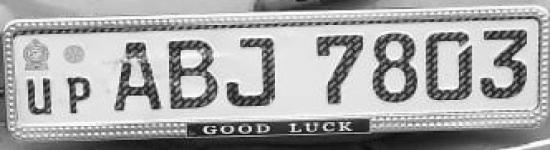0: (423, 26, 479, 108)
3: (477, 24, 533, 102)
7: (308, 30, 366, 108)
8: (366, 30, 422, 109)
A: (108, 35, 163, 115)
B: (163, 34, 224, 116)
J: (224, 33, 282, 115)
P: (63, 72, 95, 117)
U: (23, 76, 56, 120)
